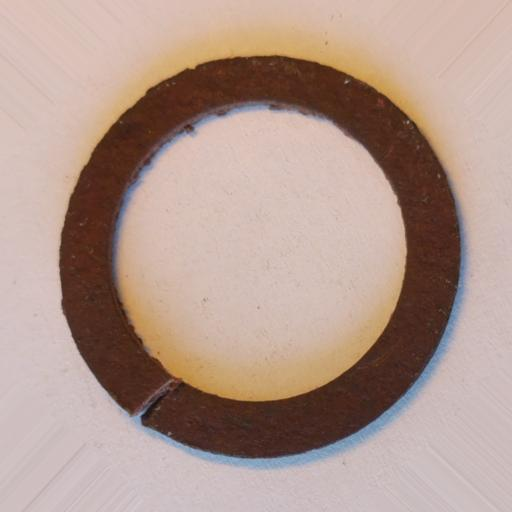defect: (134, 377, 181, 421)
